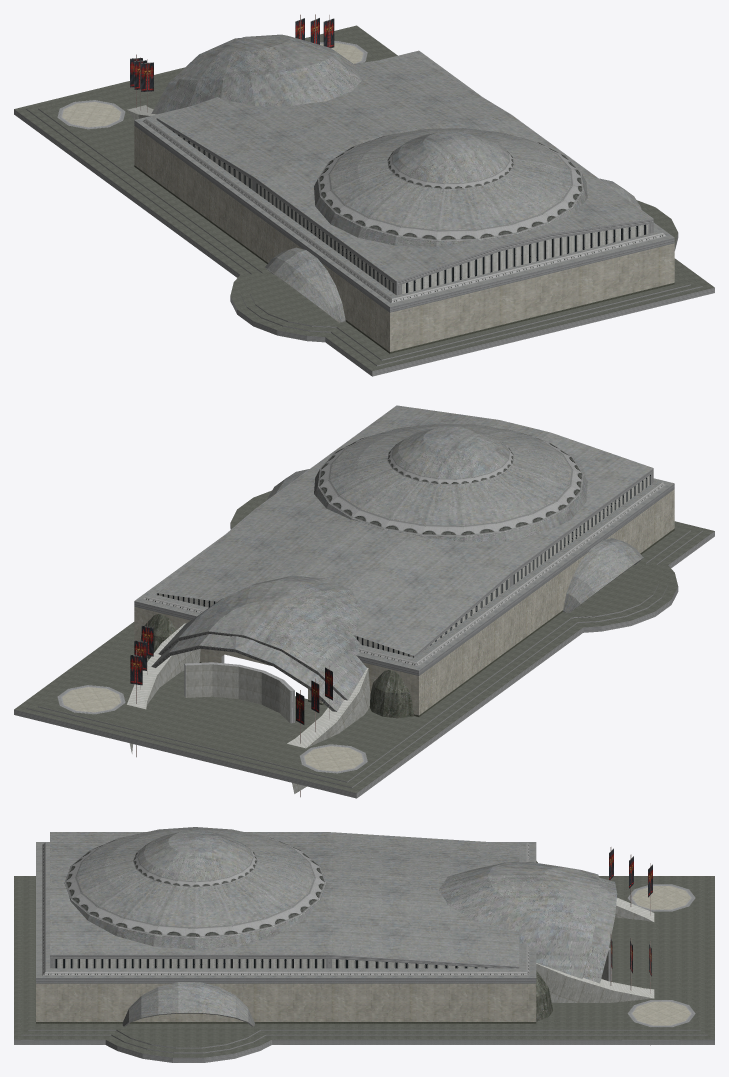
The model's file is mun_corl_guild_theater_s01_r0_mesh_l1.fbx.
3 renders of one model, top to bottom at view 1: azimuth 30°, elevation 25°; view 2: azimuth 150°, elevation 25°; view 3: azimuth 270°, elevation 25°, orthographic. The views are drawn at different scales.
Parts seen in each view (by area): view 1: mesh_node; view 2: mesh_node; view 3: mesh_node.
Part boxes in pixels (box(x1,y1,x2,y2)): mesh_node: box(14, 14, 714, 376); mesh_node: box(14, 405, 714, 798); mesh_node: box(14, 827, 714, 1062).
Bounding box in the file's own units: 81.75 × 32.27 × 121.
